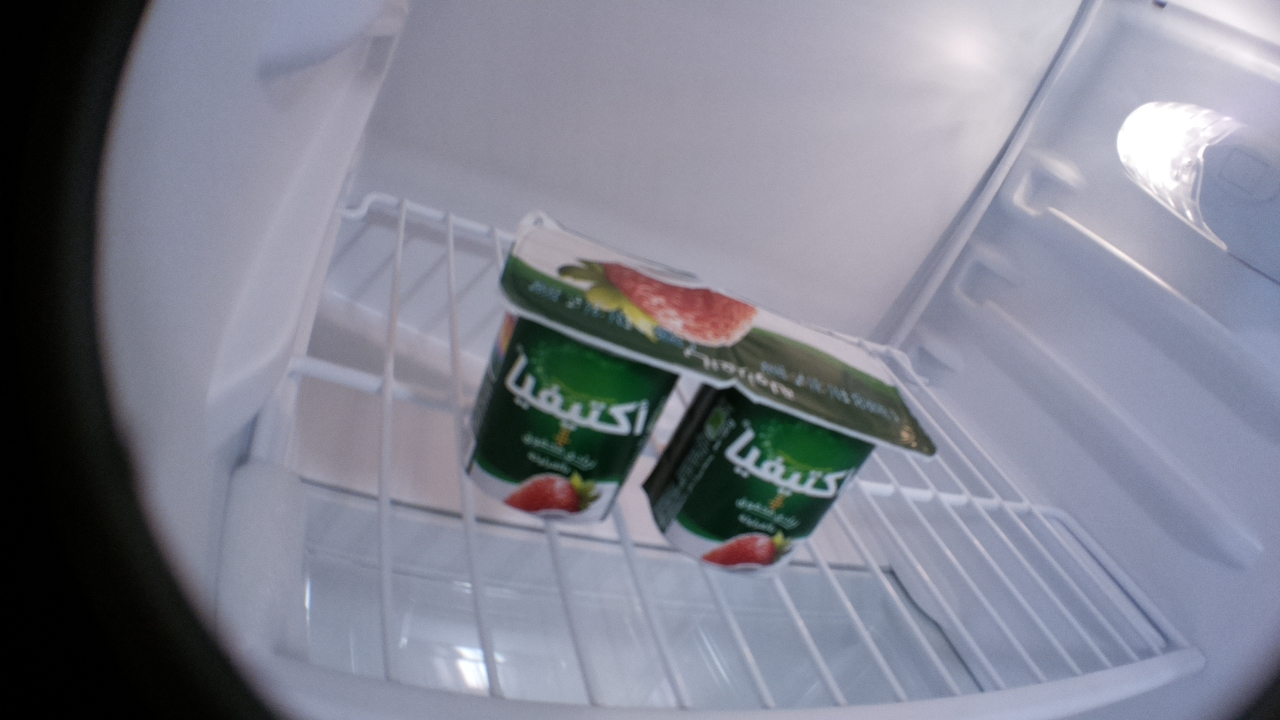yoghurt: (641, 285, 938, 578), (457, 207, 730, 524)
